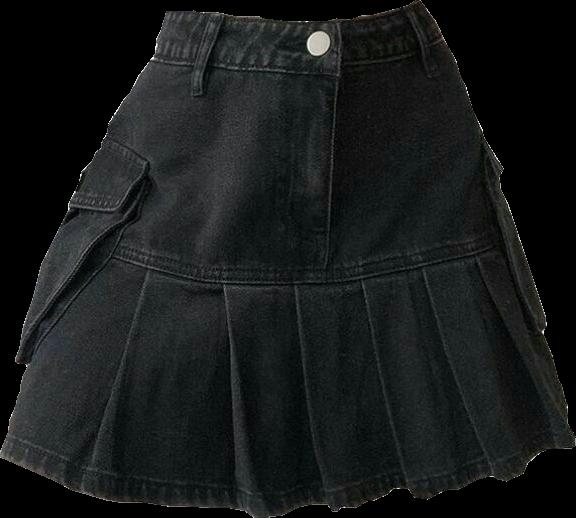Hemline: (0, 436, 575, 517)
Waistline: (59, 224, 519, 281), (153, 37, 444, 73), (167, 0, 423, 24)
